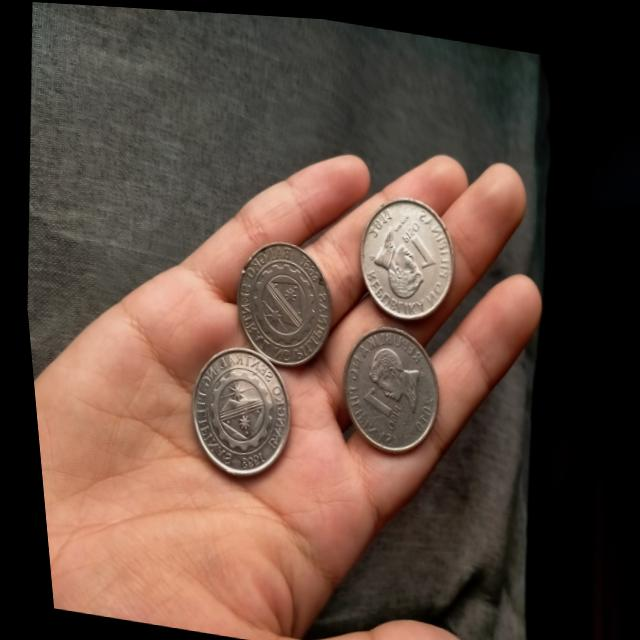1_Old_Back: (235, 251, 324, 354)
